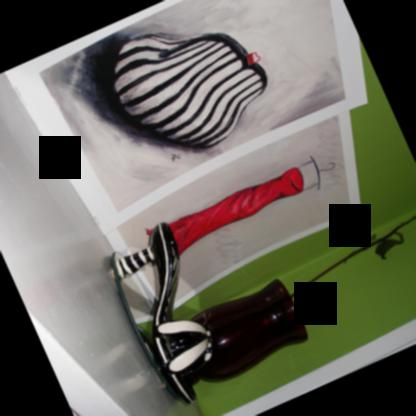handbag: (96, 32, 268, 151)
